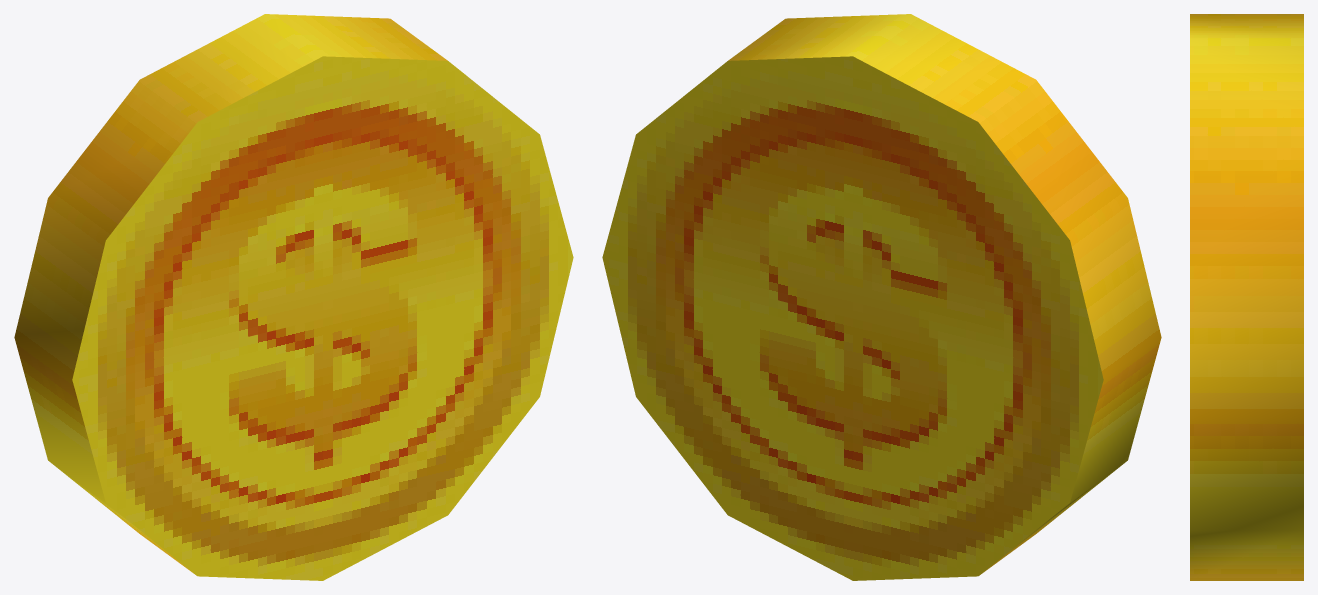
The model's file is coin.obj.
3 views of the same model, side by side, from view 1: azimuth 30°, elevation 25°; view 2: azimuth 150°, elevation 25°; view 3: azimuth 270°, elevation 25° (orthographic).
Visible parts, largest first — view 1: g0; view 2: g0; view 3: g0.
Boxes of the visible parts, x1,y1,x2,y2 form: g0: (14, 14, 573, 580); g0: (602, 14, 1161, 580); g0: (1190, 14, 1303, 580).
Size of the model in its own units: 1.33 by 1.33 by 0.2657.
1 material, 1 textured.
